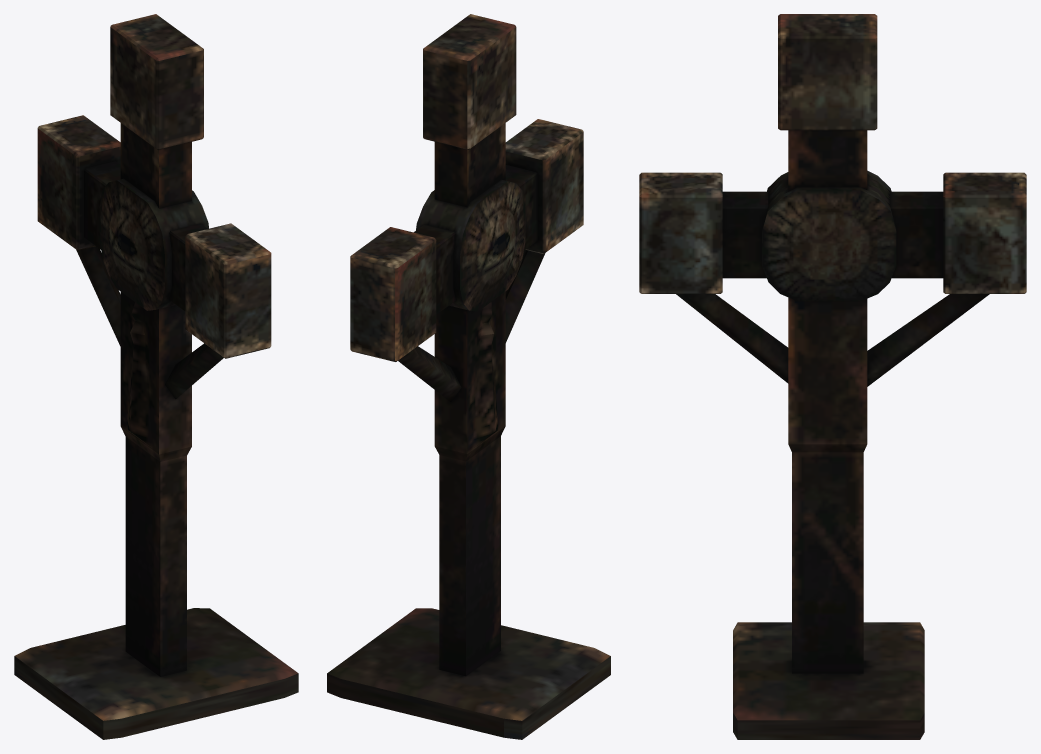
The model's file is cross_small_metal.dae.
3 views of the same model, side by side, from view 1: azimuth 30°, elevation 25°; view 2: azimuth 150°, elevation 25°; view 3: azimuth 270°, elevation 25° (orthographic). The views are drawn at different scales.
Parts seen in each view (by area): view 1: polySurface4; view 2: polySurface4; view 3: polySurface4.
Part boxes in pixels (x1,y1,x2,y2): polySurface4: (14,14,298,739); polySurface4: (327,14,610,739); polySurface4: (639,14,1026,739).
Bounding box in the file's own units: 0.1876 × 0.5946 × 0.3133.
1 material, 1 textured.
